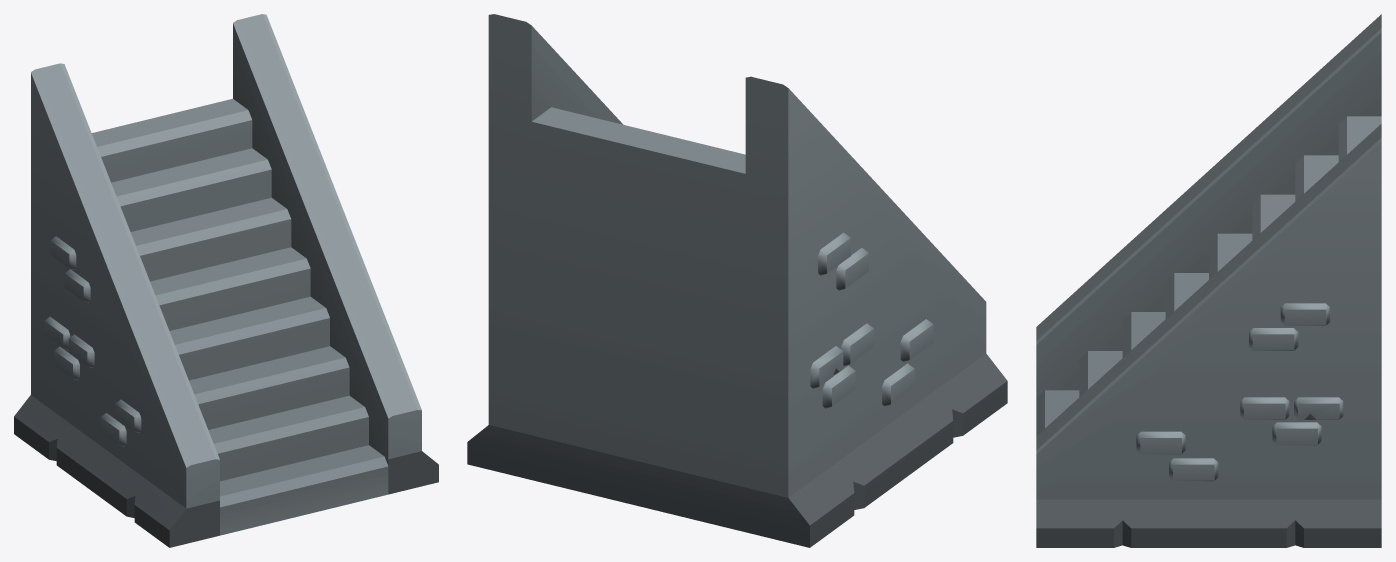
File: stairs_narrow.glb
3 renders of one model, left to right at view 1: azimuth 30°, elevation 25°; view 2: azimuth 150°, elevation 25°; view 3: azimuth 270°, elevation 25°, orthographic. The views are drawn at different scales.
Parts seen in each view (by area): view 1: stairs_narrow; view 2: stairs_narrow; view 3: stairs_narrow.
Boxes of the visible parts, x1=… form: stairs_narrow: x1=14, y1=14, x2=438, y2=547; stairs_narrow: x1=467, y1=14, x2=1007, y2=547; stairs_narrow: x1=1036, y1=14, x2=1381, y2=547.
Size of the model in its own units: 4 by 5.1 by 4.
Materials: 1 (1 with a texture image).
